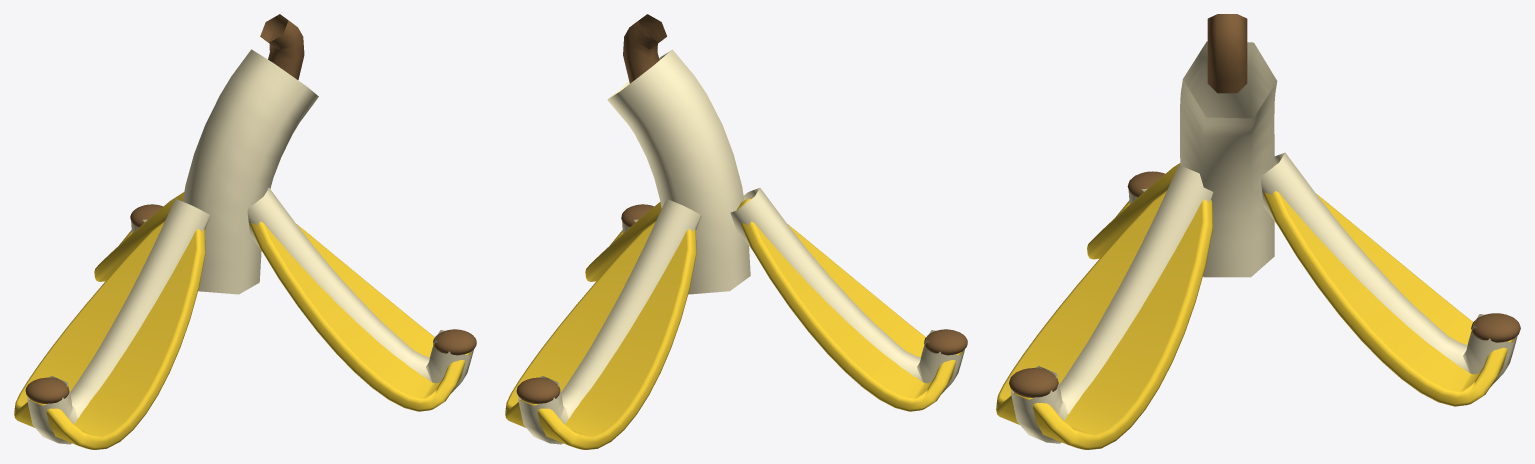
The model's file is banana.glb.
The picture shows the model from 3 angles, left to right: view 1: azimuth 30°, elevation 25°; view 2: azimuth 150°, elevation 25°; view 3: azimuth 270°, elevation 25°; orthographic projection. The views are drawn at different scales.
Parts seen in each view (by area): view 1: banana__body__Banana_inner, banana__body__Yellow, banana__body__Stem; view 2: banana__body__Banana_inner, banana__body__Yellow, banana__body__Stem; view 3: banana__body__Yellow, banana__body__Banana_inner, banana__body__Stem.
Part boxes in pixels (box(x1,y1,x2,y2)): banana__body__Banana_inner: box(27, 49, 473, 444); banana__body__Yellow: box(14, 192, 471, 449); banana__body__Stem: box(25, 14, 476, 403); banana__body__Banana_inner: box(518, 49, 964, 444); banana__body__Yellow: box(505, 198, 961, 449); banana__body__Stem: box(516, 14, 967, 403); banana__body__Yellow: box(996, 163, 1514, 449); banana__body__Banana_inner: box(1011, 41, 1517, 443); banana__body__Stem: box(1009, 14, 1520, 397).
Bounding box in the file's own units: 2.01 × 1.62 × 2.
